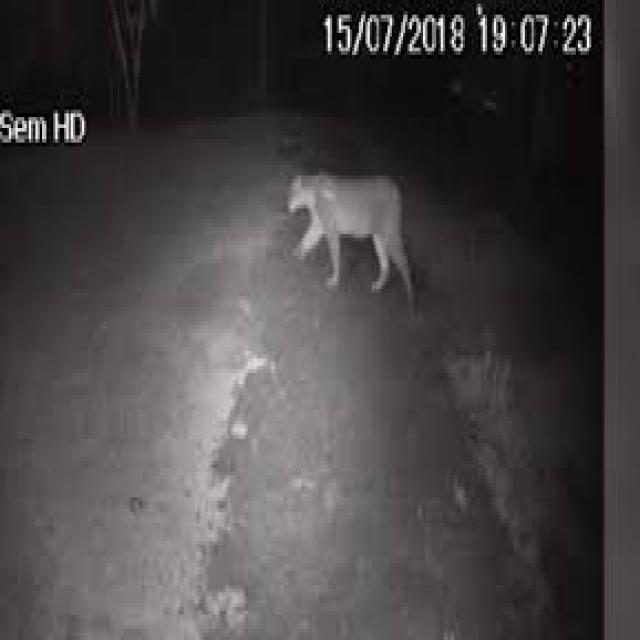Jaguar: (283, 150, 423, 318)
